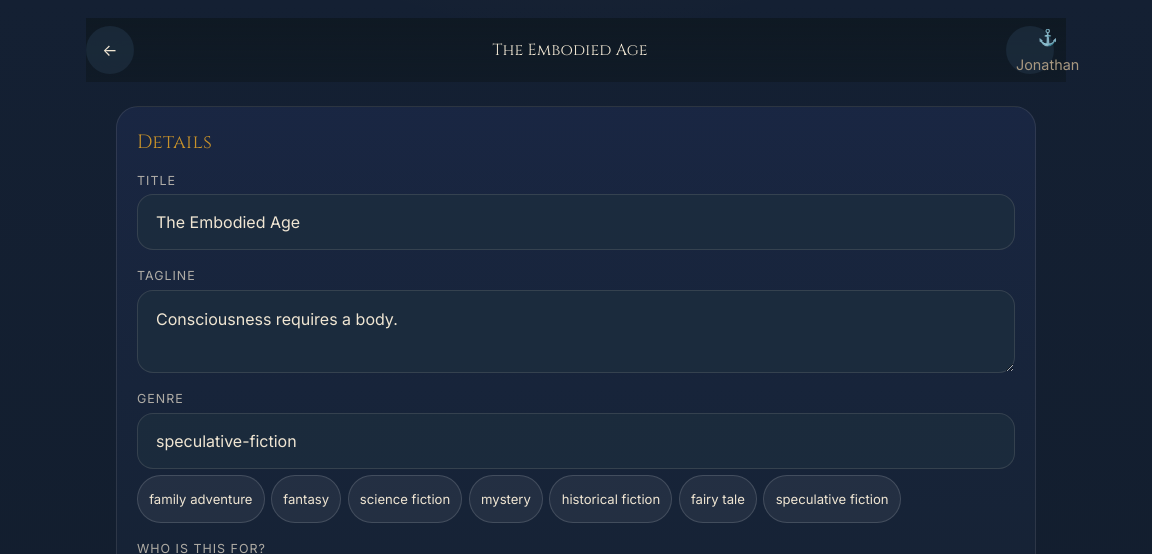
Test: saving › surfaces a refusal instead of retrying with something looser
Expected: the heading "Details" is shown, 137,129 -> 212,155
Step 1. Replace the text in the field labelled "Genre" with "x" → (576, 441), box 137,413 -> 1015,469
(page scrolled)
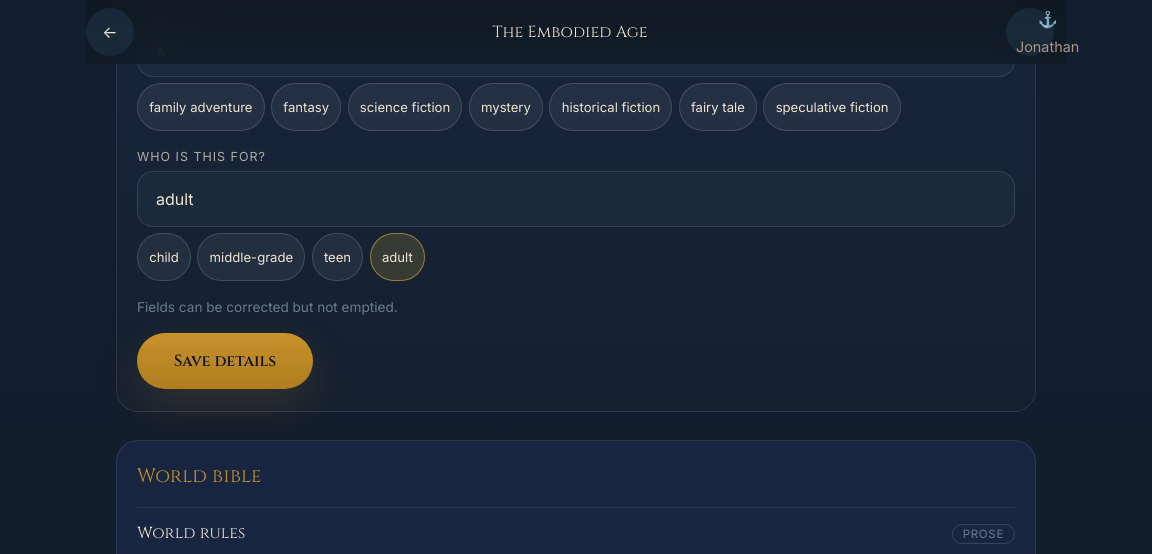
Step 2. Click the button "Save details" → (225, 361), box 137,333 -> 313,389
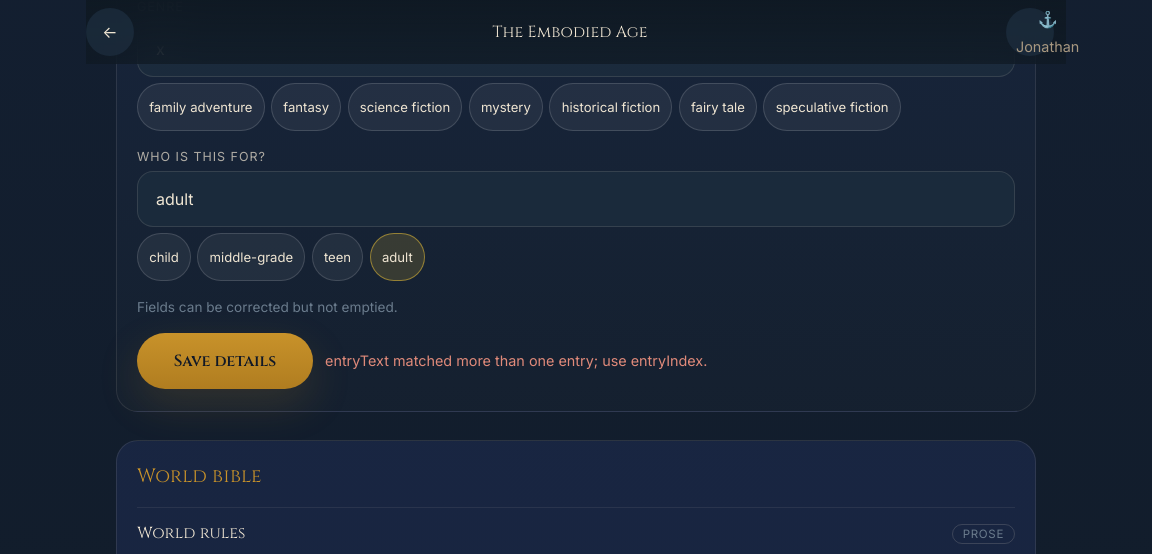
Now the message shows "matched more than one entry", box 325,352 -> 707,369
